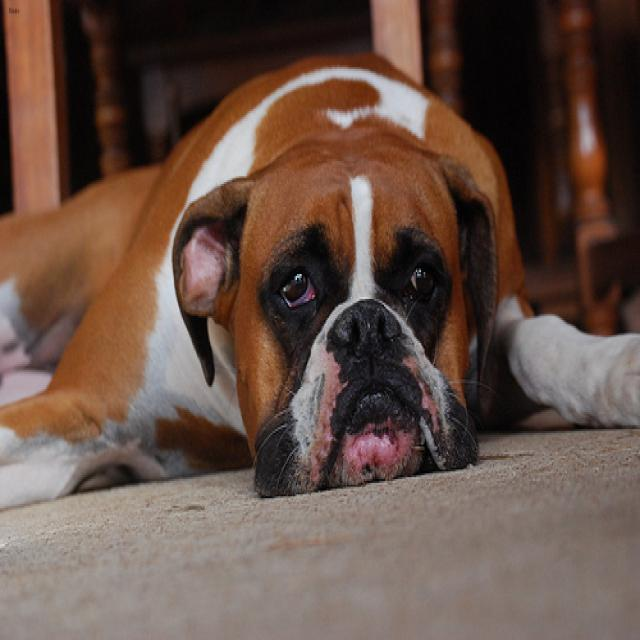dog-boxer: (1, 33, 637, 525)
